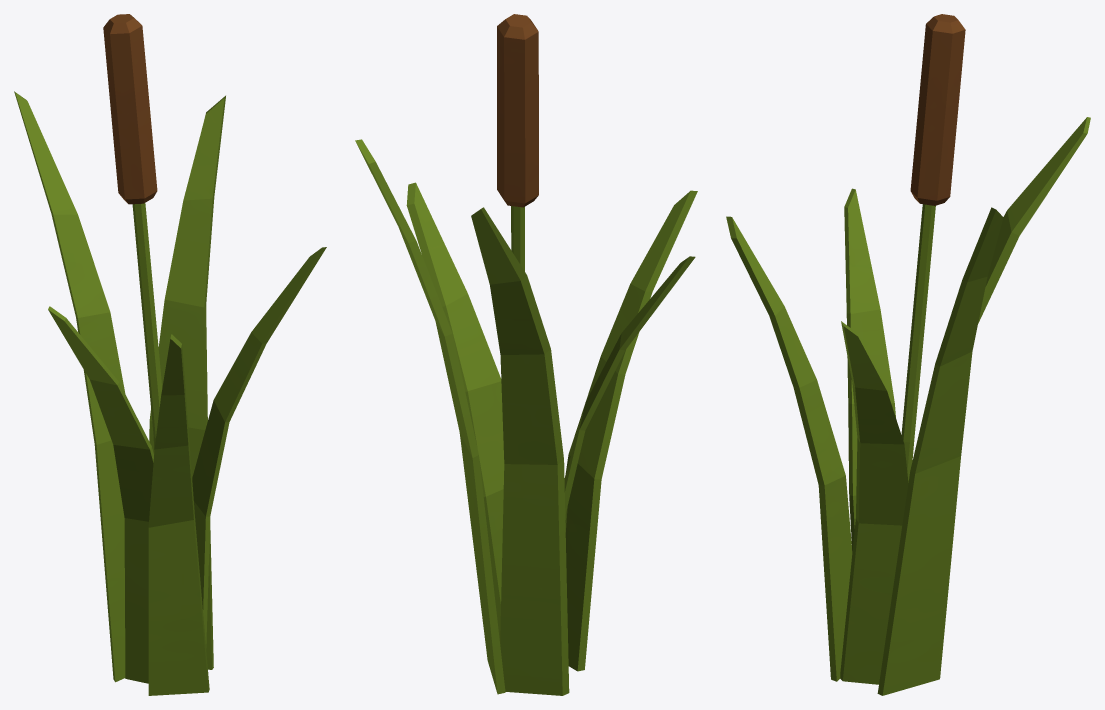
The model's file is reed.glb.
The picture shows the model from 3 angles, left to right: view 1: azimuth 30°, elevation 25°; view 2: azimuth 150°, elevation 25°; view 3: azimuth 270°, elevation 25°; orthographic projection. The views are drawn at different scales.
Parts seen in each view (by area): view 1: Plane.135; view 2: Plane.135; view 3: Plane.135.
Part boxes in pixels (x1,y1,x2,y2): Plane.135: (14,14,326,695); Plane.135: (355,14,697,695); Plane.135: (726,14,1090,695).
Bounding box in the file's own units: 0.1657 × 0.3711 × 0.1882.
1 material, 1 textured.
